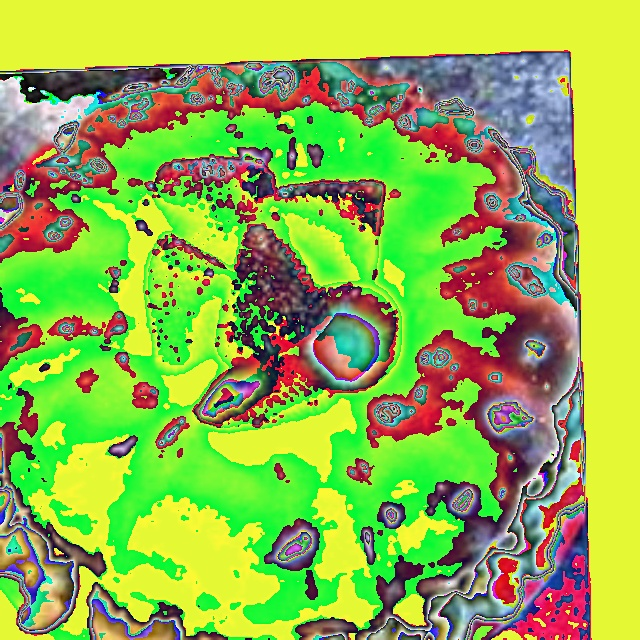background: (0, 60, 585, 639)
